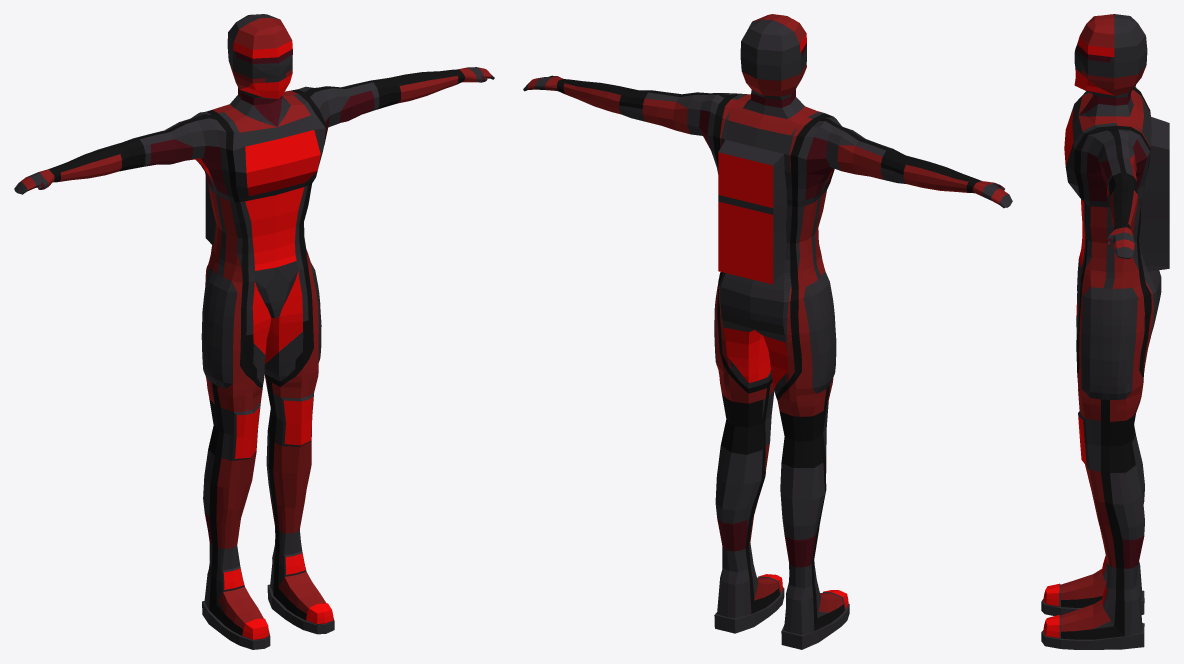
File: SpecialistClass_PlayerModel_Red.obj
The picture shows the model from 3 angles, left to right: view 1: azimuth 30°, elevation 25°; view 2: azimuth 150°, elevation 25°; view 3: azimuth 270°, elevation 25°; orthographic projection.
Visible parts, largest first — view 1: metarig_object_metarig_mesh; view 2: metarig_object_metarig_mesh; view 3: metarig_object_metarig_mesh.
Boxes of the visible parts, x1,y1,x2,y2 form: metarig_object_metarig_mesh: (14,14,494,649); metarig_object_metarig_mesh: (523,14,1012,649); metarig_object_metarig_mesh: (1041,14,1169,649).
Bounding box in the file's own units: 1.29 × 1.54 × 0.295.
